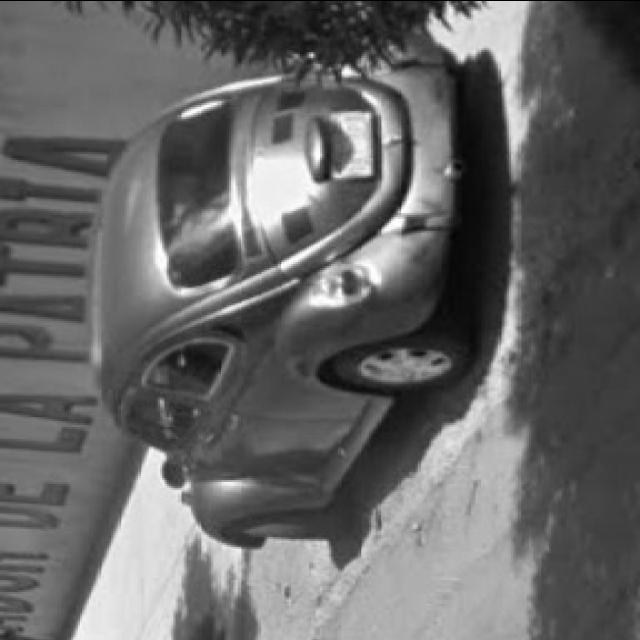car: (92, 39, 464, 555)
